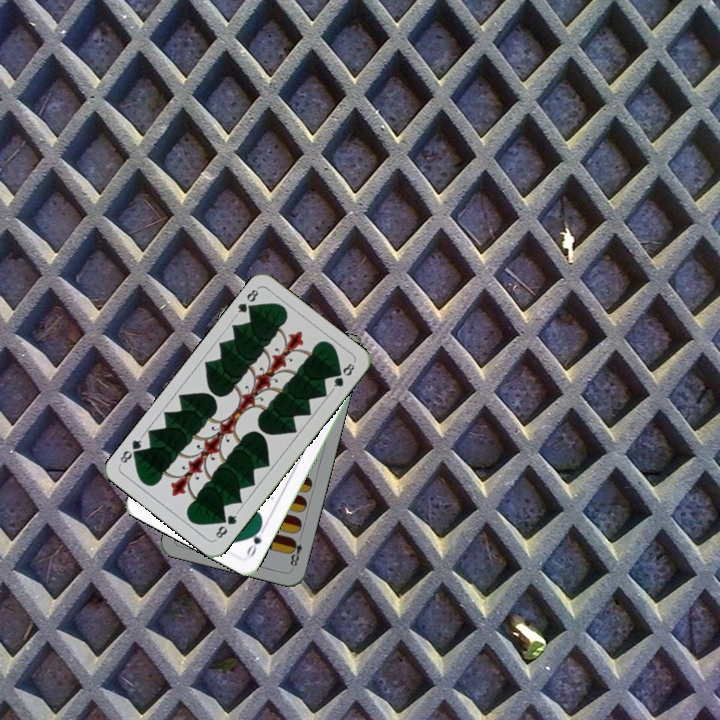E8: (286, 535, 305, 571)
G8: (231, 285, 261, 319), (211, 508, 240, 543)
GO: (242, 521, 268, 560)
